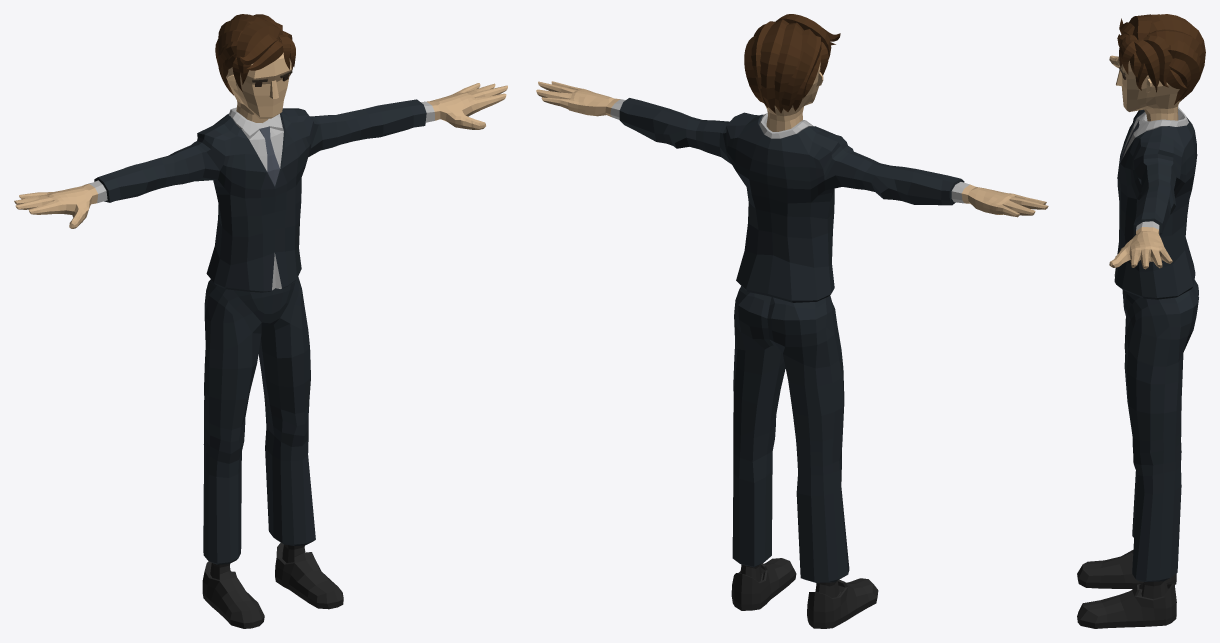
The model's file is Suit.fbx.
3 renders of one model, left to right at view 1: azimuth 30°, elevation 25°; view 2: azimuth 150°, elevation 25°; view 3: azimuth 270°, elevation 25°, orthographic. The views are drawn at different scales.
Parts seen in each view (by area): view 1: Suit_Body, Suit_Legs, Suit_Head, Suit_Feet; view 2: Suit_Body, Suit_Legs, Suit_Head, Suit_Feet; view 3: Suit_Legs, Suit_Body, Suit_Head, Suit_Feet.
Part boxes in pixels (x1,y1,x2,y2): Suit_Body: (14, 83, 507, 292); Suit_Legs: (203, 277, 315, 564); Suit_Head: (215, 14, 295, 122); Suit_Feet: (202, 542, 343, 628); Suit_Body: (536, 81, 1048, 302); Suit_Legs: (732, 286, 849, 582); Suit_Head: (744, 14, 840, 131); Suit_Feet: (731, 558, 878, 628); Suit_Legs: (1122, 280, 1198, 581); Suit_Body: (1109, 55, 1197, 299); Suit_Head: (1116, 14, 1205, 121); Suit_Feet: (1077, 550, 1176, 628).
Size of the model in its own units: 168 by 186 by 37.16.
